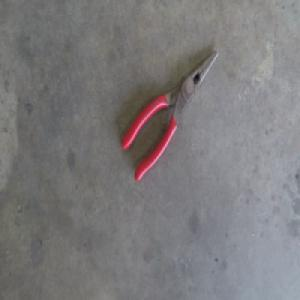Pliers: (120, 48, 220, 186)
